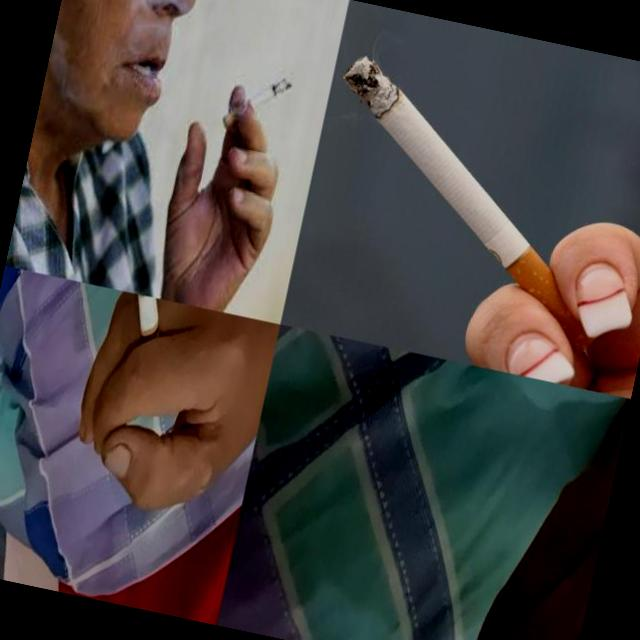smoke: (293, 50, 640, 361), (220, 66, 291, 140), (115, 292, 170, 364)
